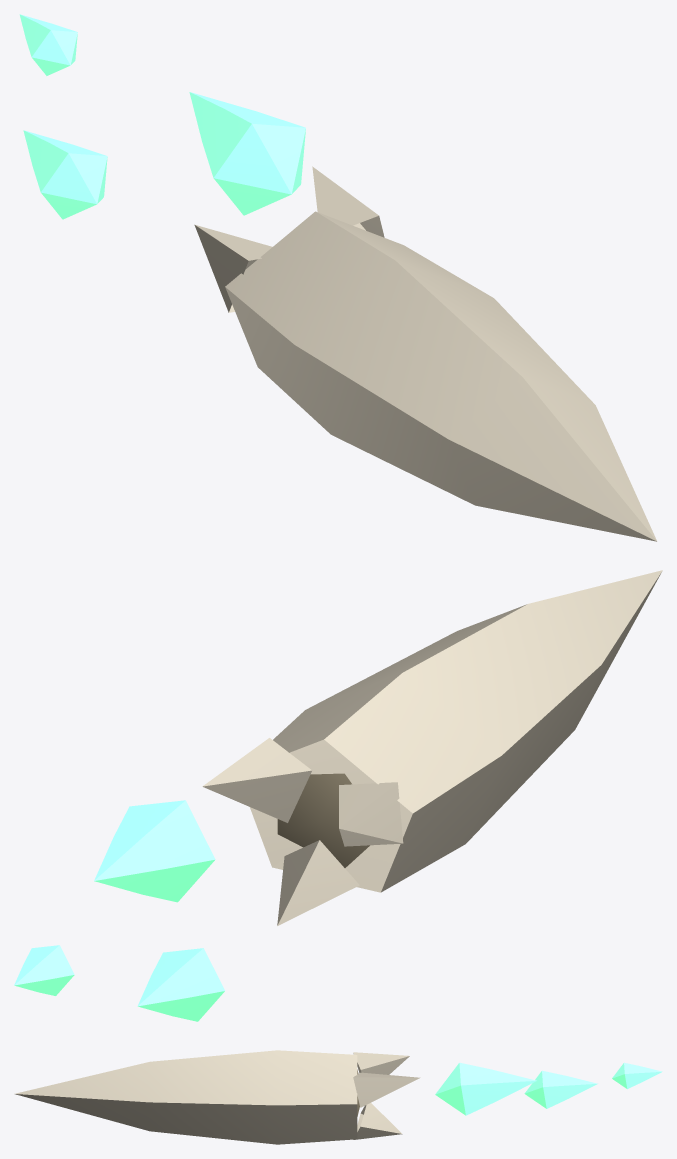
The model's file is projectile-bone.glb.
The picture shows the model from 3 angles, top to bottom: view 1: azimuth 30°, elevation 25°; view 2: azimuth 150°, elevation 25°; view 3: azimuth 270°, elevation 25°; orthographic projection. The views are drawn at different scales.
Parts seen in each view (by area): view 1: bone; view 2: bone; view 3: bone.
Boxes of the visible parts, <box> form: bone: <box>19,14,657,541</box>; bone: <box>14,570,662,1021</box>; bone: <box>14,1050,662,1144</box>.
Bounding box in the file's own units: 0.0723 × 0.0615 × 0.4064.
